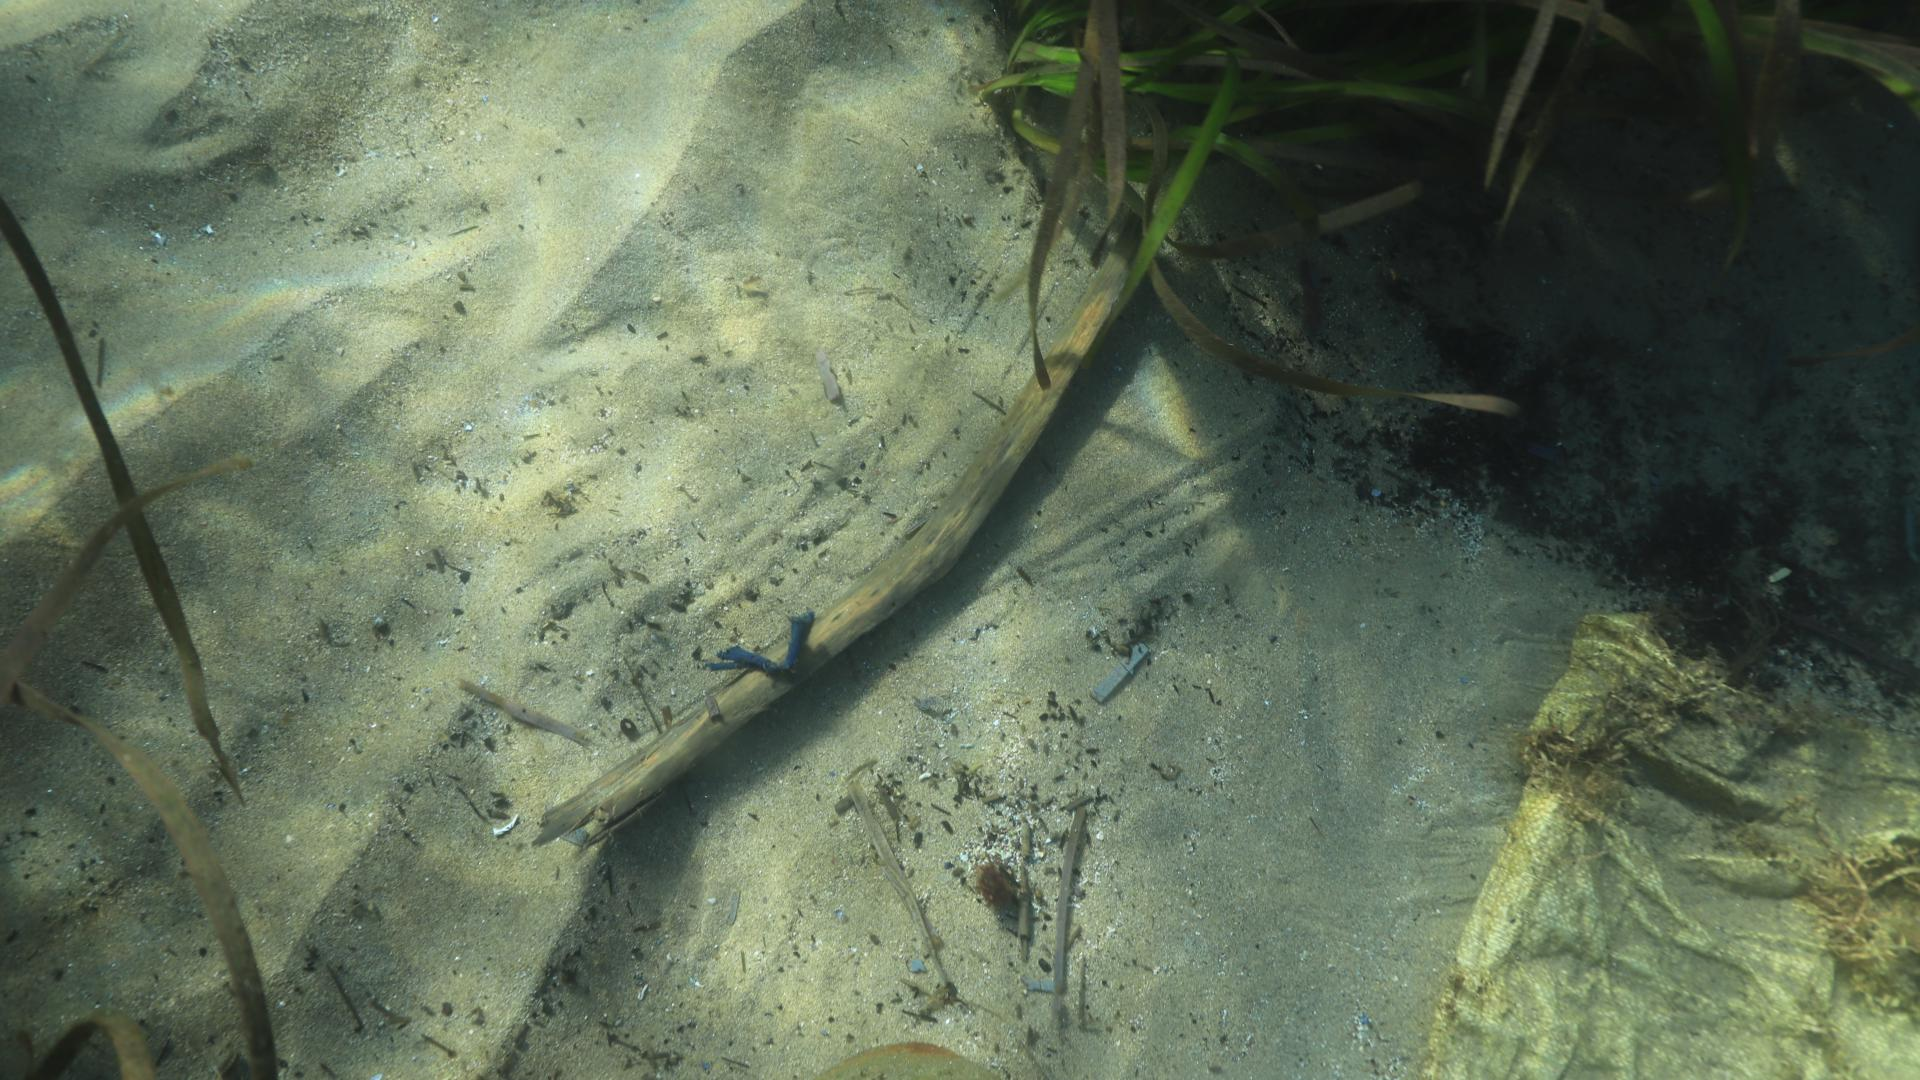wood: (537, 212, 1139, 848)
